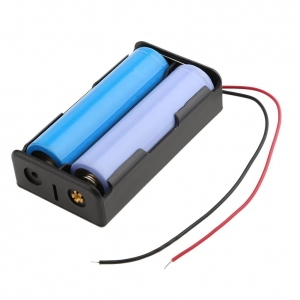Battery: (69, 60, 215, 191), (23, 45, 170, 169)
